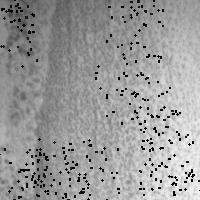pitted_surface: (38, 1, 200, 198), (1, 1, 48, 198), (120, 74, 179, 133), (139, 131, 199, 189), (59, 141, 118, 199), (106, 0, 162, 60), (95, 57, 150, 115), (8, 147, 67, 200), (34, 138, 88, 195), (135, 162, 192, 200), (0, 8, 36, 66), (0, 148, 40, 200), (0, 0, 33, 51)
